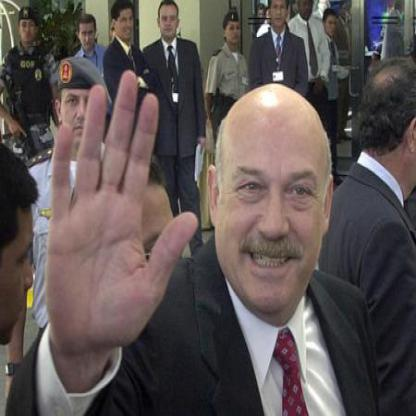face: (216, 85, 329, 315), (61, 64, 101, 149), (159, 1, 181, 40), (116, 3, 137, 42), (80, 16, 98, 52), (19, 10, 38, 44), (270, 1, 289, 31), (227, 14, 243, 46), (326, 12, 339, 36)
